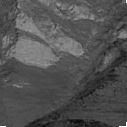Target: (83, 117, 93, 124)
